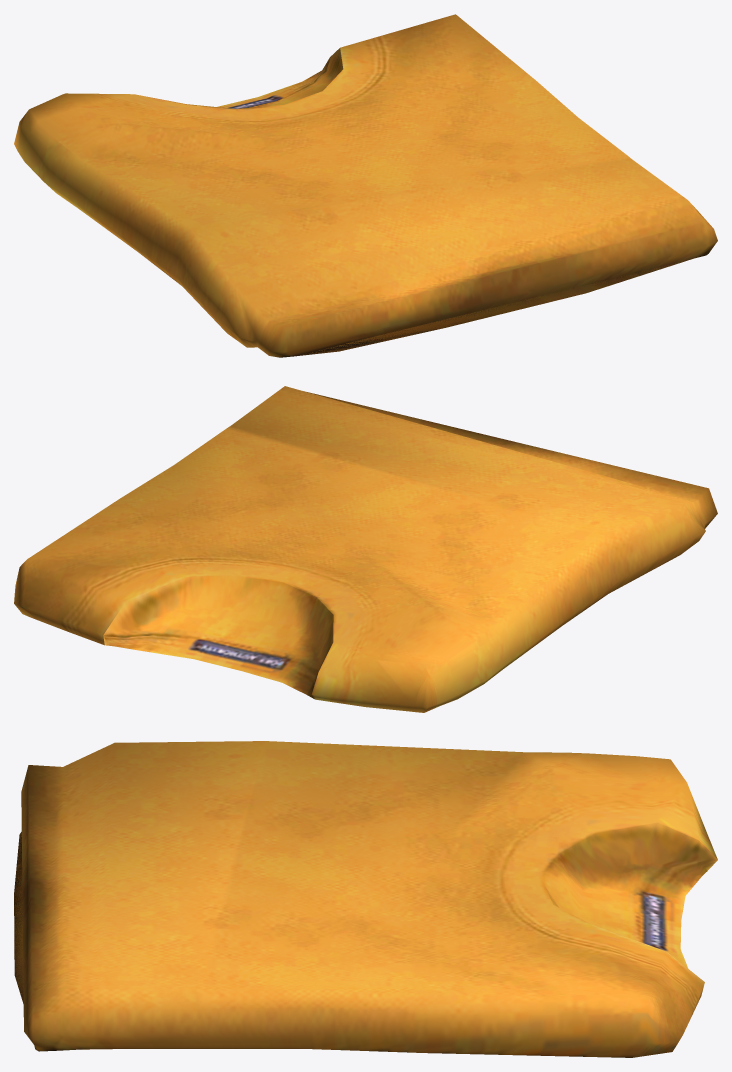
File: TShirt_Folded_Yellow.fbx
3 views of the same model, one above another, from view 1: azimuth 30°, elevation 25°; view 2: azimuth 150°, elevation 25°; view 3: azimuth 270°, elevation 25° (orthographic). The views are drawn at different scales.
Parts seen in each view (by area): view 1: TShirt_Folded_Yellow; view 2: TShirt_Folded_Yellow; view 3: TShirt_Folded_Yellow.
Boxes of the visible parts, <box> form: TShirt_Folded_Yellow: <box>14,14,717,357</box>; TShirt_Folded_Yellow: <box>14,386,717,712</box>; TShirt_Folded_Yellow: <box>14,741,717,1057</box>.
Size of the model in its own units: 0.4585 by 0.056 by 0.5042.
